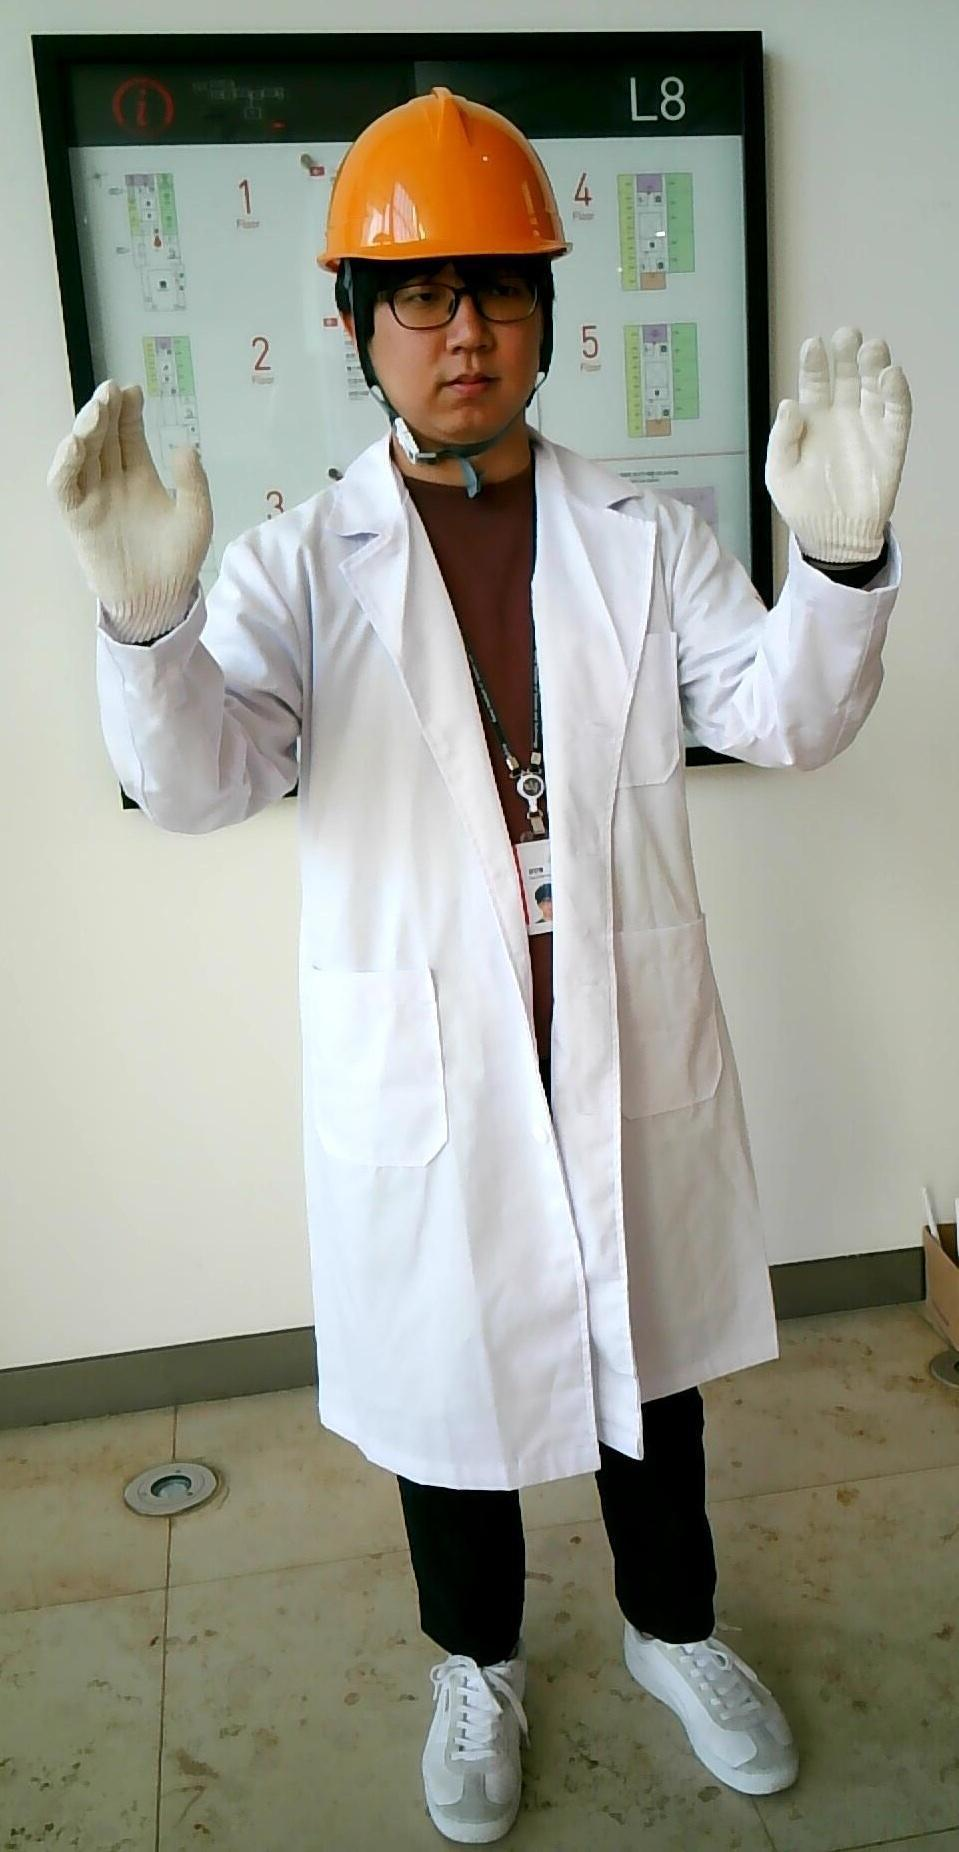lab_coat: (305, 511, 734, 1414)
